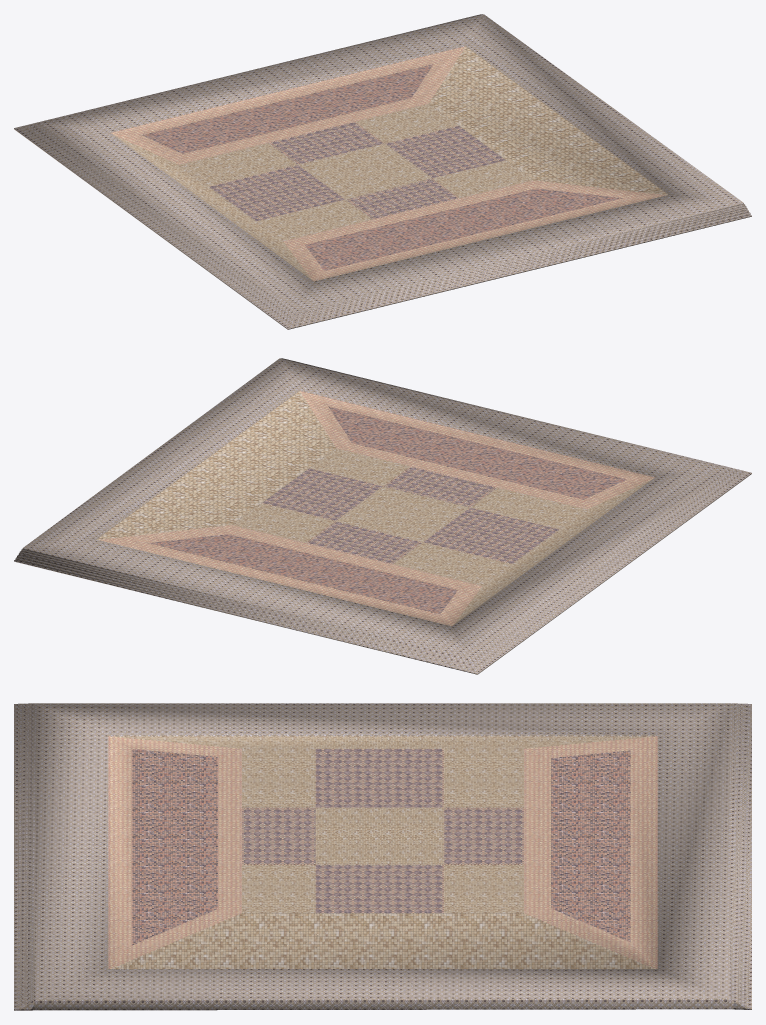
3 renders of one model, top to bottom at view 1: azimuth 30°, elevation 25°; view 2: azimuth 150°, elevation 25°; view 3: azimuth 270°, elevation 25°, orthographic. The views are drawn at different scales.
Parts seen in each view (by area): view 1: base2; view 2: base2; view 3: base2.
Boxes of the visible parts, left/top/right/bottom form: base2: left=14, top=14, right=751, bottom=329; base2: left=14, top=358, right=751, bottom=674; base2: left=14, top=703, right=751, bottom=1010.
Size of the model in its own units: 31.48 by 0.5158 by 32.2.
5 materials, 5 textured.
